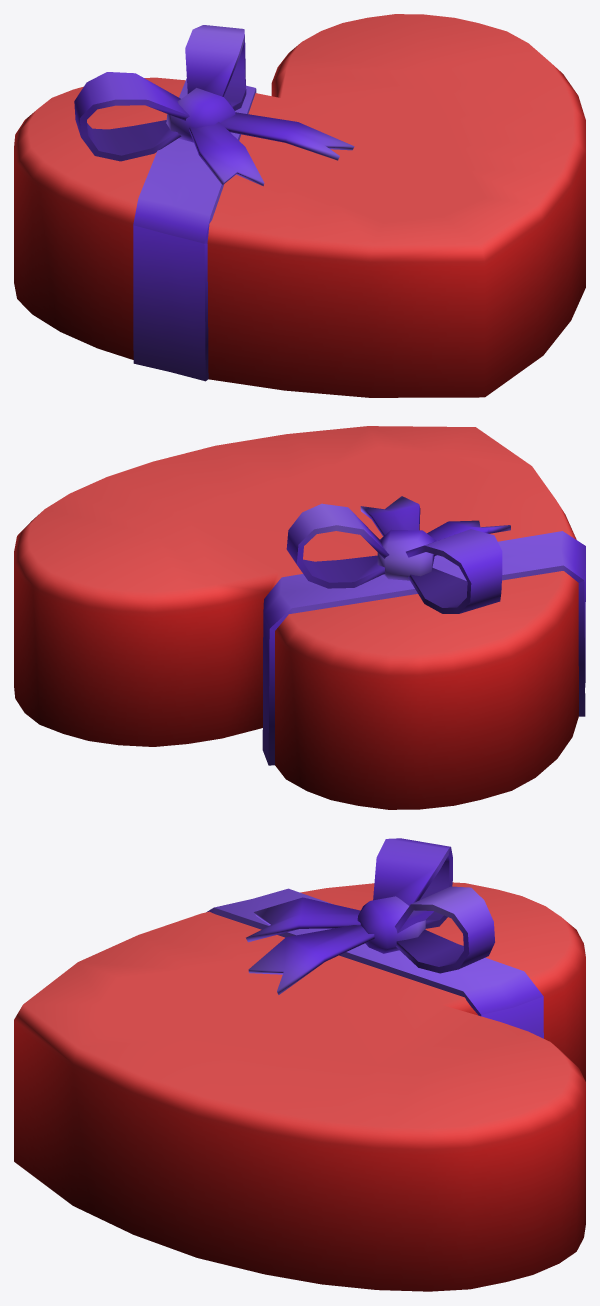
The model's file is part_Box_Lid.fbx.
3 renders of one model, top to bottom at view 1: azimuth 30°, elevation 25°; view 2: azimuth 150°, elevation 25°; view 3: azimuth 270°, elevation 25°, orthographic. The views are drawn at different scales.
Parts seen in each view (by area): view 1: sm_ChocoBox_Top; view 2: sm_ChocoBox_Top; view 3: sm_ChocoBox_Top.
Boxes of the visible parts, x1,y1,x2,y2 form: sm_ChocoBox_Top: (14,14,585,397); sm_ChocoBox_Top: (14,426,585,809); sm_ChocoBox_Top: (14,838,585,1291).
Size of the model in its own units: 45.24 by 19.19 by 42.06.
